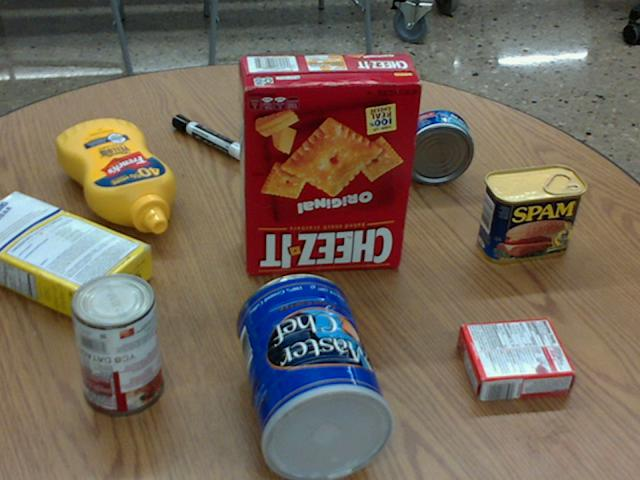cracker_box: (235, 51, 422, 275)
gelatin_box: (456, 316, 575, 399)
large_marker: (171, 114, 248, 160)
master_chef_can: (236, 273, 395, 479)
mug: (255, 58, 346, 147)
mustard_bottle: (56, 118, 175, 232)
potted_meat_can: (477, 164, 585, 263)
sugar_box: (0, 187, 152, 327)
tomato_soup_can: (71, 271, 164, 414)
tuna_fish_can: (397, 109, 472, 183)
